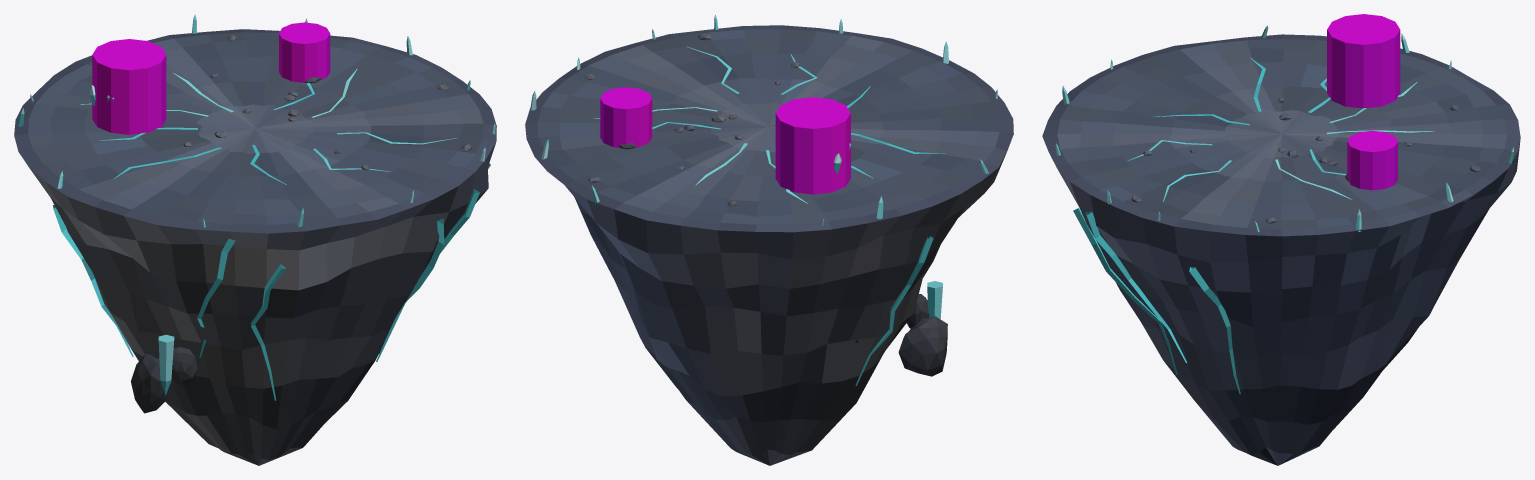
The model's file is isle_wild_crystal.glb.
The picture shows the model from 3 angles, left to right: view 1: azimuth 30°, elevation 25°; view 2: azimuth 150°, elevation 25°; view 3: azimuth 270°, elevation 25°; orthographic projection. The views are drawn at different scales.
Visible parts, largest first — view 1: isle_wild_crystal, col_crystal_a, col_crystal_b; view 2: isle_wild_crystal, col_crystal_a, col_crystal_b; view 3: isle_wild_crystal, col_crystal_a, col_crystal_b.
Boxes of the visible parts, <box> form: isle_wild_crystal: <box>14,14,496,465</box>; col_crystal_a: <box>92,39,166,134</box>; col_crystal_b: <box>279,22,330,82</box>; isle_wild_crystal: <box>525,14,1013,465</box>; col_crystal_a: <box>775,97,850,194</box>; col_crystal_b: <box>600,87,652,147</box>; isle_wild_crystal: <box>1042,25,1520,465</box>; col_crystal_a: <box>1327,14,1400,108</box>; col_crystal_b: <box>1347,130,1397,190</box>.
Bounding box in the file's own units: 33.79 × 31 × 34.02.
